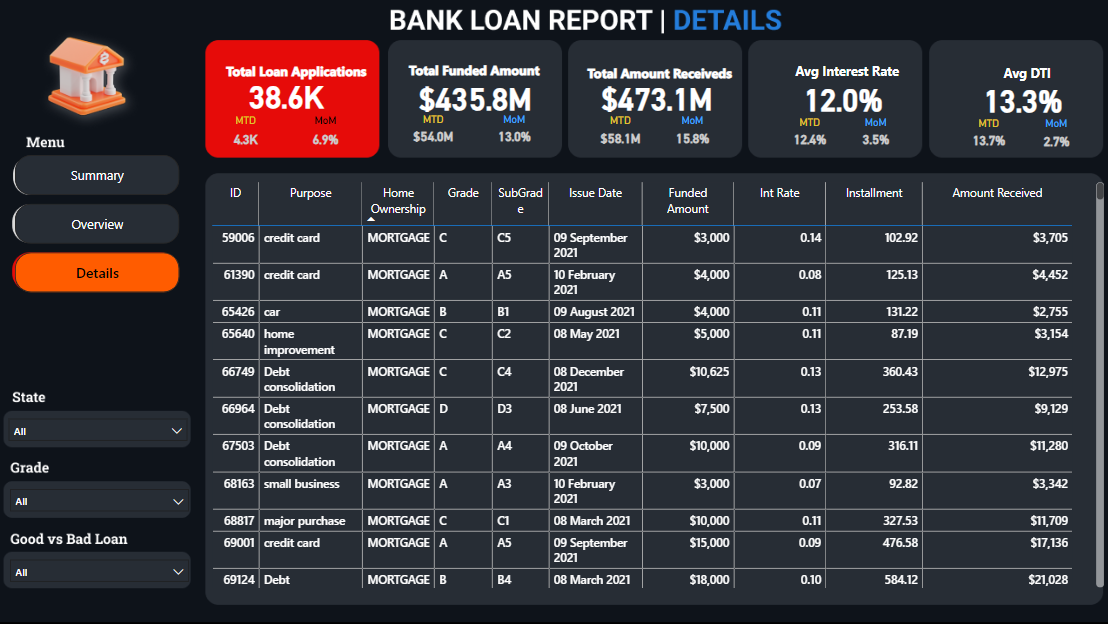

Layout of this report page (visuals, bound fields, positions):
{"tool":"powerbi","page":{"name":"Details","canvas":[1280,720],"ordinal":2},"visuals":[{"type":"card","fields":{"Values":["_Measure.Total Loan Applications"]},"box":[243,83,170.8,53.3],"z":0,"group":"g7"},{"type":"card","fields":{"Values":["_Measure.Total Funded Amount"]},"box":[460.1,85.2,170.8,50.4],"z":0,"group":"g1"},{"type":"card","fields":{"Values":["_Measure.Total Amount Received"]},"box":[677.1,86.1,153.9,50.9],"z":0,"group":"g8"},{"type":"card","fields":{"Values":["_Measure.Avg Interest Rate"]},"box":[897.4,88.3,140.6,50.8],"z":0,"group":"g6"},{"type":"card","fields":{"Values":["_Measure.Avg DTI"]},"box":[1103.8,90.9,143.5,50.2],"z":0,"group":"g9"},{"type":"group","id":"g1","title":"Group 1","box":[433.4,65.1,224.7,108.5],"z":1000,"group":"g10"},{"type":"textbox","box":[433.4,65.1,224.7,51.6],"z":1000,"group":"g1"},{"type":"group","id":"g2","title":"Group 2","box":[228.1,66.8,225.7,109.5],"z":1000},{"type":"textbox","box":[228.1,66.8,225.8,32.3],"z":1000,"group":"g7"},{"type":"textbox","box":[880.2,66.8,185.2,48.4],"z":1000,"group":"g6"},{"type":"textbox","box":[656.5,68.6,202.7,35.3],"z":1000,"group":"g8"},{"type":"textbox","box":[1086.2,69.6,189,47.9],"z":1000,"group":"g9"},{"type":"group","id":"g3","title":"Group 4","box":[656.5,68.6,202.7,106.8],"z":2000},{"type":"card","title":"MTD","fields":{"Values":["_Measure.MTD Funded Applications"]},"box":[460.1,131.2,78.1,41.8],"z":2000,"group":"g1"},{"type":"card","title":"MTD","fields":{"Values":["_Measure.MTD Loan Applications"]},"box":[243,131.6,78.1,44.2],"z":2000,"group":"g7"},{"type":"card","title":"MTD","fields":{"Values":["_Measure.MTD Total Amount Received"]},"box":[677,132.6,70.3,42.2],"z":2000,"group":"g8"},{"type":"card","title":"MTD","fields":{"Values":["_Measure.MTD Avg Int Rate"]},"box":[897.3,134.7,64.3,42.1],"z":2000,"group":"g6"},{"type":"card","title":"MTD","fields":{"Values":["_Measure.MTD Avg DTI"]},"box":[1103.7,136.8,65.6,41.7],"z":2000,"group":"g9"},{"type":"group","id":"g4","title":"Group 5","box":[880.2,66.8,185.2,110.6],"z":3000},{"type":"card","title":"MoM","fields":{"Values":["_Measure.MoM Total Funded Amount"]},"box":[552.4,131.2,78.6,42.3],"z":3000,"group":"g1"},{"type":"card","title":"MoM","fields":{"Values":["_Measure.MoM Loan Applications"]},"box":[335.3,131.6,78.6,44.7],"z":3000,"group":"g7"},{"type":"card","title":"MoM","fields":{"Values":["_Measure.MoM Total Recieved Amount"]},"box":[760.2,132.6,70.8,42.7],"z":3000,"group":"g8"},{"type":"card","title":"MoM","fields":{"Values":["_Measure.MoM Avg Int Rate"]},"box":[973.4,134.7,64.7,42.6],"z":3000,"group":"g6"},{"type":"card","title":"MoM","fields":{"Values":["_Measure.MoM Avg DTI"]},"box":[1181.3,136.8,66,42.2],"z":3000,"group":"g9"},{"type":"group","id":"g5","title":"Group 6","box":[1086.2,69.6,189,109.2],"z":4000},{"type":"group","id":"g6","title":"Group 1","box":[880.2,66.8,185.2,110.6],"z":5000,"group":"g4"},{"type":"slicer","fields":{"Values":["bank_loan_data.address_state"]},"box":[0,471.6,225,45.3],"z":5000},{"type":"group","id":"g7","title":"Group 1","box":[228.1,66.8,225.7,109.5],"z":7000,"group":"g2"},{"type":"group","id":"g8","title":"Group 1","box":[656.5,68.6,202.7,106.8],"z":8000,"group":"g3"},{"type":"slicer","fields":{"Values":["bank_loan_data.grade"]},"box":[1.4,553.4,225,44.6],"z":8000},{"type":"group","id":"g9","title":"Group 1","box":[1086.2,69.6,189,109.2],"z":9000,"group":"g5"},{"type":"slicer","fields":{"Values":["bank_loan_data.Good vs Bad Lone"]},"box":[1.4,635.1,225,45.3],"z":10000},{"type":"group","id":"g10","title":"Group 3","box":[433.4,65.1,224.7,108.5],"z":11000},{"type":"tableEx","fields":{"Values":["bank_loan_data.id","bank_loan_data.purpose","bank_loan_data.home_ownership","bank_loan_data.grade","bank_loan_data.sub_grade","bank_loan_data.issue_date","_Measure.Total Funded Amount","Sum(bank_loan_data.int_rate)","Sum(bank_loan_data.installment)","_Measure.Total Amount Received"]},"box":[238,206,1036,476],"z":12000},{"type":"pageNavigator","box":[17.5,178.9,189.5,159.6],"z":13000}]}

Visuals, with their boxes in screenshot pixels (x1, y1, x2, y2), scaled from the page's 1280x720 canvas onto the 1108x624 screenshot:
card - _Measure.Total Loan Applications: box(210, 72, 358, 118)
card - _Measure.Total Funded Amount: box(398, 74, 546, 118)
card - _Measure.Total Amount Received: box(586, 75, 719, 119)
card - _Measure.Avg Interest Rate: box(777, 77, 899, 121)
card - _Measure.Avg DTI: box(955, 79, 1080, 122)
"Group 1" group: box(375, 56, 570, 150)
textbox: box(375, 56, 570, 101)
"Group 2" group: box(197, 58, 393, 153)
textbox: box(197, 58, 393, 86)
textbox: box(762, 58, 922, 100)
textbox: box(568, 59, 744, 90)
textbox: box(940, 60, 1104, 102)
"Group 4" group: box(568, 59, 744, 152)
"MTD" card: box(398, 114, 466, 150)
"MTD" card: box(210, 114, 278, 152)
"MTD" card: box(586, 115, 647, 151)
"MTD" card: box(777, 117, 832, 153)
"MTD" card: box(955, 119, 1012, 155)
"Group 5" group: box(762, 58, 922, 154)
"MoM" card: box(478, 114, 546, 150)
"MoM" card: box(290, 114, 358, 153)
"MoM" card: box(658, 115, 719, 152)
"MoM" card: box(843, 117, 899, 154)
"MoM" card: box(1023, 119, 1080, 155)
"Group 6" group: box(940, 60, 1104, 155)
"Group 1" group: box(762, 58, 922, 154)
slicer - bank_loan_data.address_state: box(0, 409, 195, 448)
"Group 1" group: box(197, 58, 393, 153)
"Group 1" group: box(568, 59, 744, 152)
slicer - bank_loan_data.grade: box(1, 480, 196, 518)
"Group 1" group: box(940, 60, 1104, 155)
slicer - bank_loan_data.Good vs Bad Lone: box(1, 550, 196, 590)
"Group 3" group: box(375, 56, 570, 150)
tableEx - bank_loan_data.id x bank_loan_data.purpose: box(206, 179, 1103, 591)
pageNavigator: box(15, 155, 179, 293)
